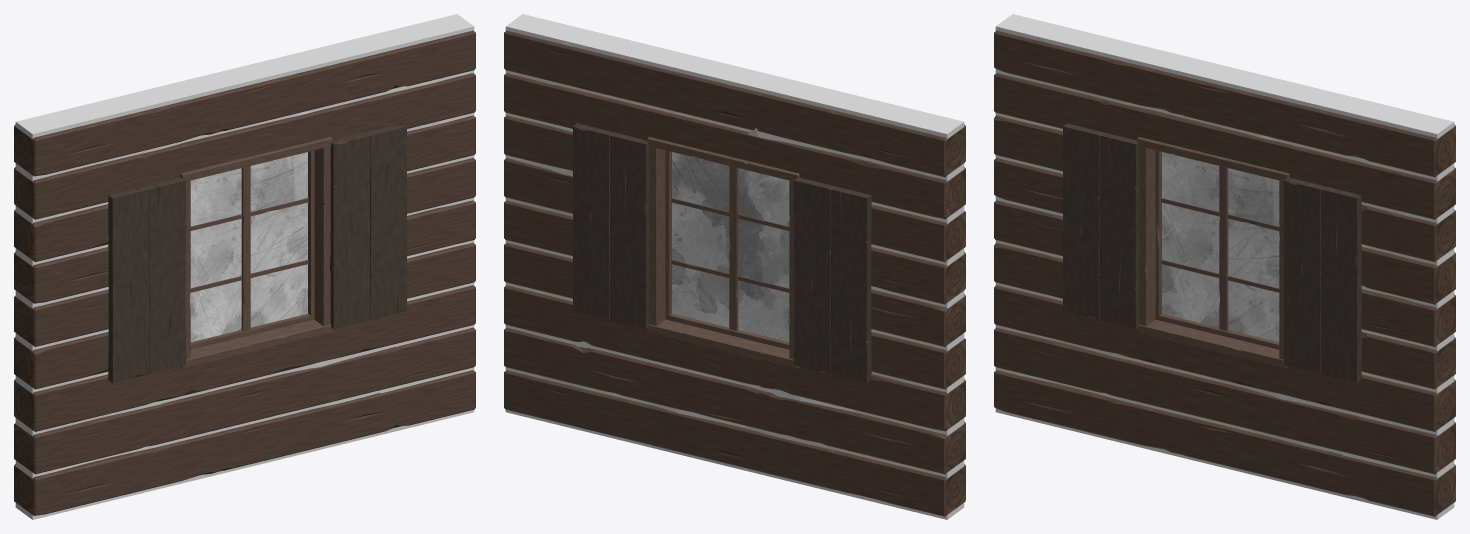
The model's file is log_wall_window.fbx.
3 renders of one model, left to right at view 1: azimuth 30°, elevation 25°; view 2: azimuth 150°, elevation 25°; view 3: azimuth 330°, elevation 25°, orthographic.
Visible parts, largest first — view 1: Support, Log.008, Log, Log.001, Window, Log.007, Log.002, Plank.003, Plank.001, Plank.002, Plank, Plank.004 (+5 smaller); view 2: Support, Log.008, Log, Log.001, Window, Log.007, Log.002, Plank.003, Plank.007, Plank.006, Plank.008, Plank.005 (+5 smaller); view 3: Support, Log.008, Log, Log.001, Window, Log.007, Log.002, Plank.003, Plank.004, Plank, Plank.001, Plank.002 (+5 smaller).
Boxes of the visible parts, left/top/right/bottom form: Support: left=15, top=14, right=474, bottom=519; Log.008: left=14, top=30, right=475, bottom=176; Log: left=14, top=370, right=475, bottom=515; Log.001: left=14, top=327, right=475, bottom=474; Window: left=189, top=152, right=307, bottom=342; Log.007: left=14, top=73, right=475, bottom=219; Log.002: left=14, top=285, right=475, bottom=431; Plank.003: left=180, top=137, right=332, bottom=368; Plank.001: left=108, top=186, right=148, bottom=382; Plank.002: left=330, top=132, right=370, bottom=328; Plank: left=145, top=177, right=185, bottom=373; Plank.004: left=366, top=123, right=406, bottom=319; Support: left=505, top=14, right=964, bottom=519; Log.008: left=504, top=30, right=965, bottom=177; Log: left=504, top=370, right=965, bottom=516; Log.001: left=504, top=327, right=965, bottom=474; Window: left=672, top=152, right=789, bottom=342; Log.007: left=504, top=73, right=965, bottom=219; Log.002: left=504, top=285, right=965, bottom=431; Plank.003: left=647, top=137, right=799, bottom=368; Plank.007: left=831, top=186, right=871, bottom=382; Plank.006: left=609, top=132, right=649, bottom=328; Plank.008: left=794, top=177, right=834, bottom=373; Plank.005: left=573, top=123, right=612, bottom=319; Support: left=995, top=14, right=1454, bottom=519; Log.008: left=994, top=30, right=1455, bottom=177; Log: left=994, top=370, right=1455, bottom=516; Log.001: left=994, top=327, right=1455, bottom=474; Window: left=1162, top=152, right=1279, bottom=342; Log.007: left=994, top=73, right=1455, bottom=219; Log.002: left=994, top=285, right=1455, bottom=431; Plank.003: left=1137, top=137, right=1289, bottom=368; Plank.004: left=1321, top=186, right=1361, bottom=382; Plank: left=1099, top=132, right=1139, bottom=328; Plank.001: left=1063, top=123, right=1103, bottom=319; Plank.002: left=1284, top=177, right=1323, bottom=373.
Bounding box in the file's own units: 1200 × 1000 × 142.
Materials: 16 (15 with a texture image).
